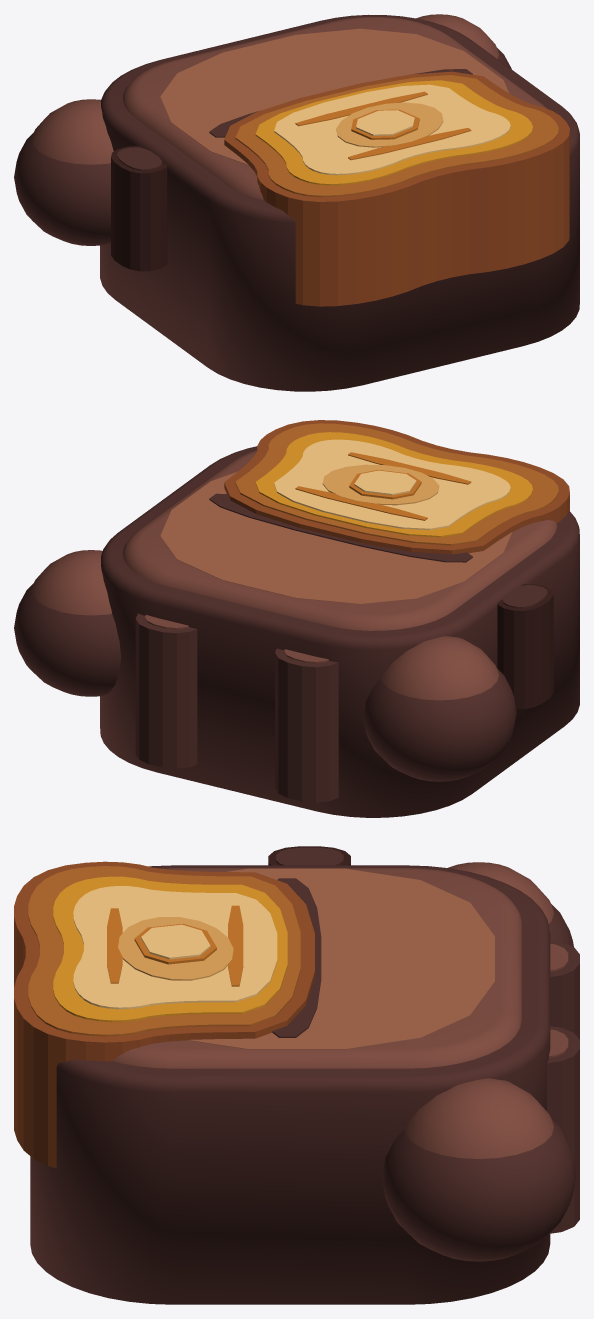
File: body_torradeira.fbx
3 views of the same model, one above another, from view 1: azimuth 30°, elevation 25°; view 2: azimuth 150°, elevation 25°; view 3: azimuth 270°, elevation 25° (orthographic). The views are drawn at different scales.
Parts seen in each view (by area): view 1: body_torradeira_corpo, body_torradeira_mao_esq, body_torradeira_mao; view 2: body_torradeira_corpo, body_torradeira_mao_esq, body_torradeira_mao; view 3: body_torradeira_corpo, body_torradeira_mao, body_torradeira_mao_esq.
Part boxes in pixels (x1,y1,x2,y2): body_torradeira_corpo: (100, 14, 579, 391); body_torradeira_mao_esq: (14, 99, 113, 245); body_torradeira_mao: (416, 14, 511, 69); body_torradeira_corpo: (100, 420, 579, 817); body_torradeira_mao_esq: (363, 636, 516, 781); body_torradeira_mao: (14, 550, 121, 696); body_torradeira_corpo: (14, 846, 579, 1304); body_torradeira_mao: (382, 1078, 576, 1261); body_torradeira_mao_esq: (448, 862, 573, 946).
Bounding box in the file's own units: 5.4 × 2.15 × 4.35.
Materials: 1 (1 with a texture image).
